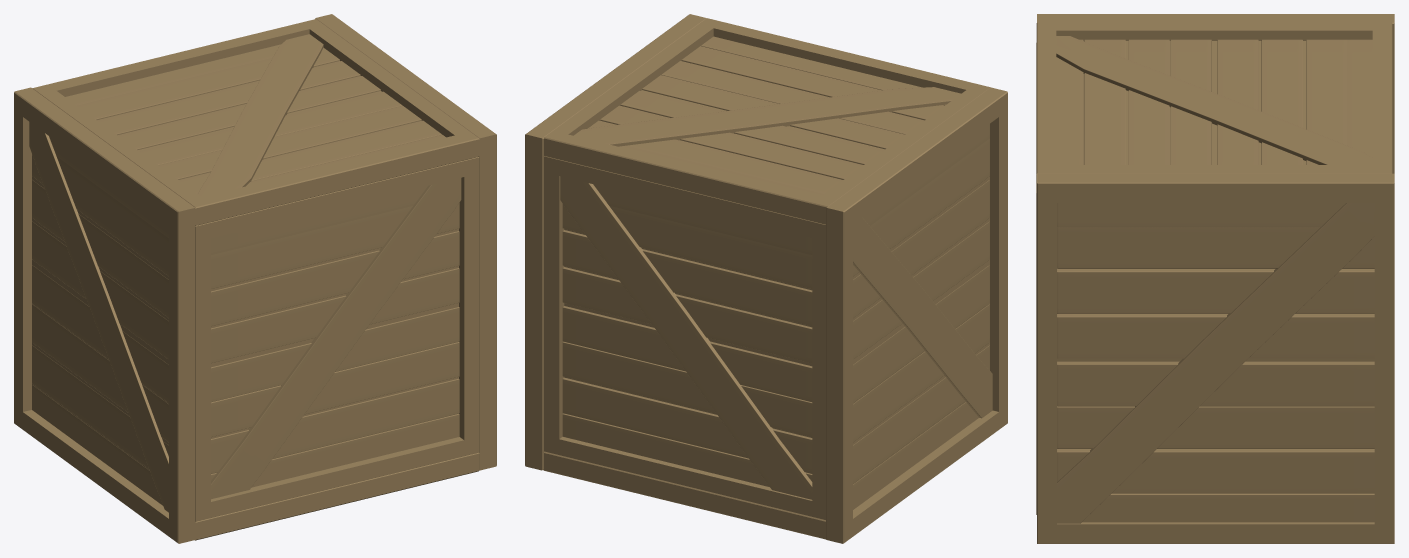
File: M_caja madera1.fbx
3 renders of one model, left to right at view 1: azimuth 30°, elevation 25°; view 2: azimuth 150°, elevation 25°; view 3: azimuth 270°, elevation 25°, orthographic. The views are drawn at different scales.
Visible parts, largest first — view 1: CrateV8_group6_pPlane13; view 2: CrateV8_group6_pPlane13; view 3: CrateV8_group6_pPlane13.
Boxes of the visible parts, x1,y1,x2,y2 form: CrateV8_group6_pPlane13: [14, 14, 496, 543]; CrateV8_group6_pPlane13: [525, 14, 1007, 543]; CrateV8_group6_pPlane13: [1036, 14, 1394, 543].
Size of the model in its own units: 7.21 by 7.19 by 6.44.
